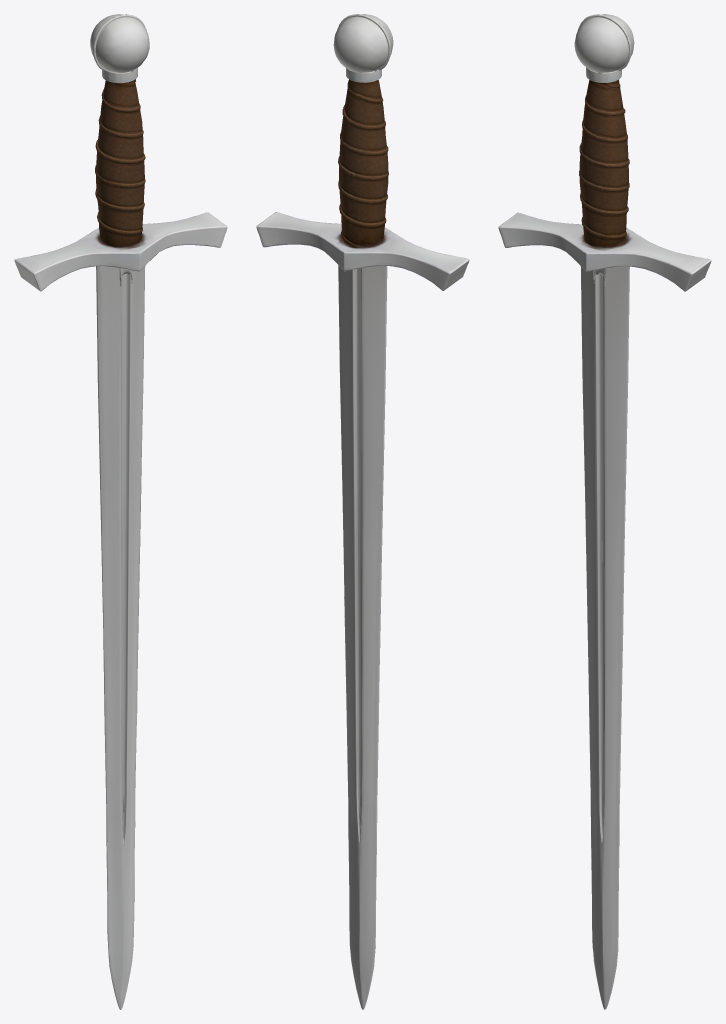
File: tripo_convert_8c06890a-718d-415e-b5ec-41cfaa3a632b.fbx
3 renders of one model, left to right at view 1: azimuth 30°, elevation 25°; view 2: azimuth 150°, elevation 25°; view 3: azimuth 330°, elevation 25°, orthographic.
Parts seen in each view (by area): view 1: tripo_node_8c06890a; view 2: tripo_node_8c06890a; view 3: tripo_node_8c06890a.
Boxes of the visible parts, x1,y1,x2,y2 form: tripo_node_8c06890a: (14,14,227,1009); tripo_node_8c06890a: (256,14,469,1009); tripo_node_8c06890a: (498,14,711,1009).
Bounding box in the file's own units: 20.46 × 6.88 × 99.95.
1 material, 1 textured.
